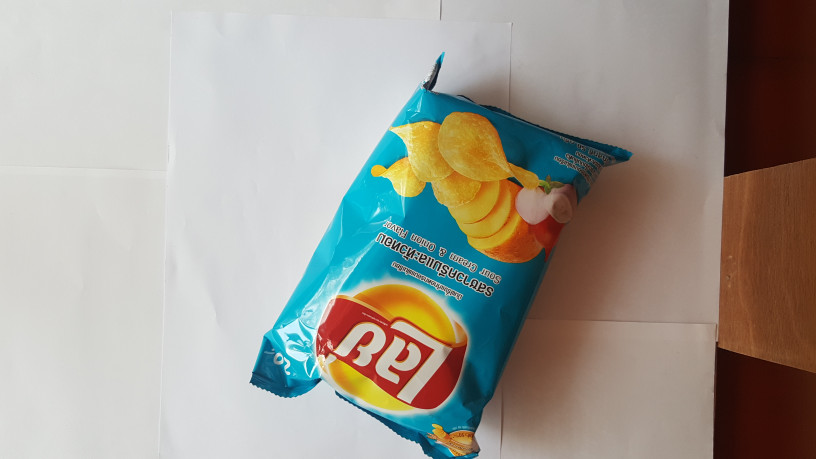lays-onion: (247, 54, 615, 459)
